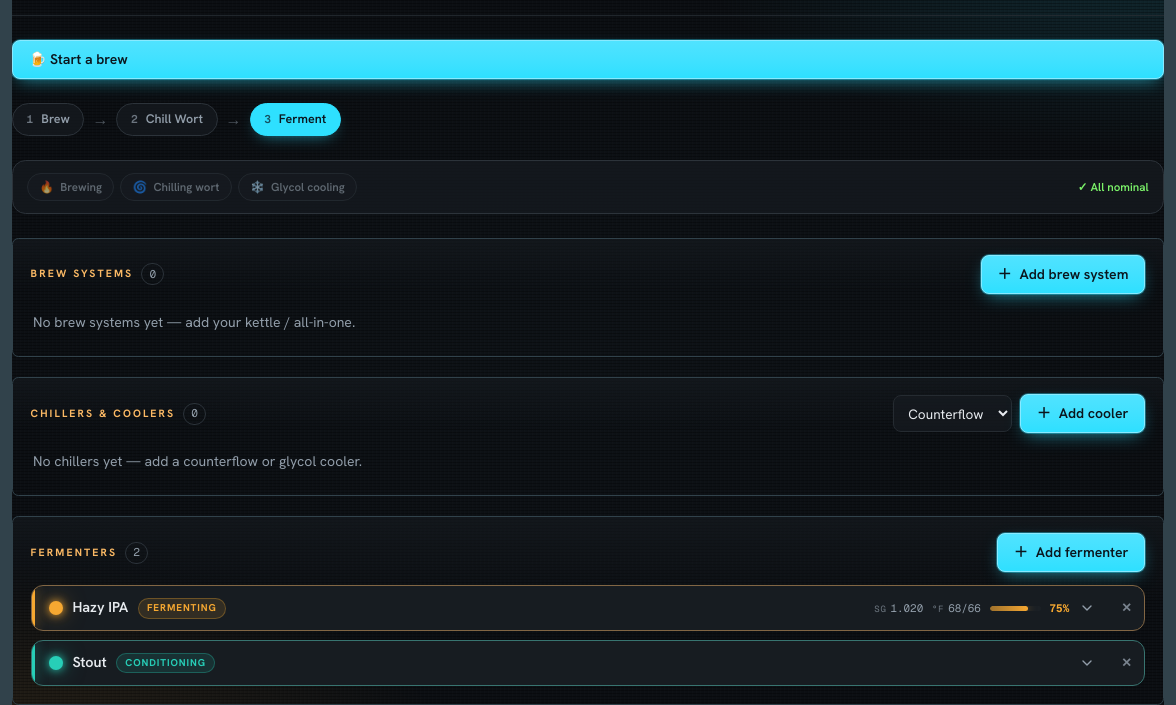
Test: FermenterRow — cinematic single-expand › clicking the summary expands the row (detail visible, aria-expanded true)
(page scrolled)
Click the button "Hazy IPA Fermenting SG 1.020 °F 68/66 75%".
click(100, 607)  # box [32,586,1108,630]
(page scrolled)
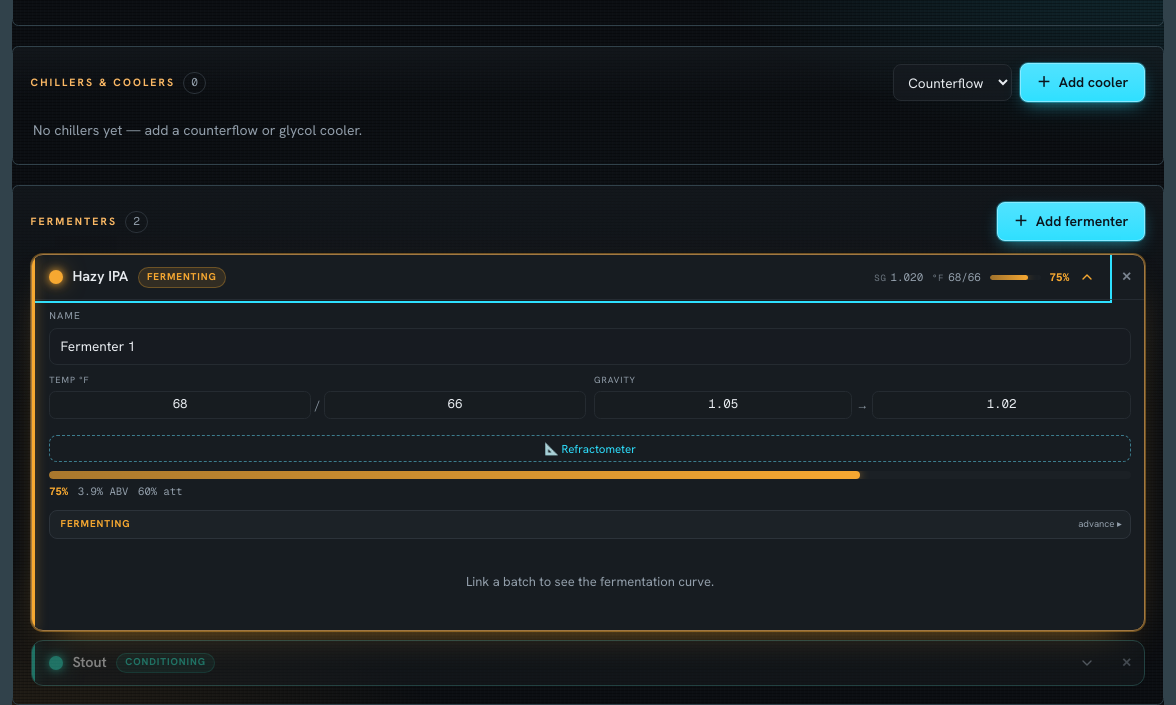
Check: the button "Hazy IPA Fermenting SG 1.020 °F 68/66 75%" is expanded, box [32,255,1108,299]
Check: the element named "Hazy IPA controls" is shown, box [32,299,1144,630]
Check: the number field named "Current gravity" is shown, box [872,391,1131,418]
